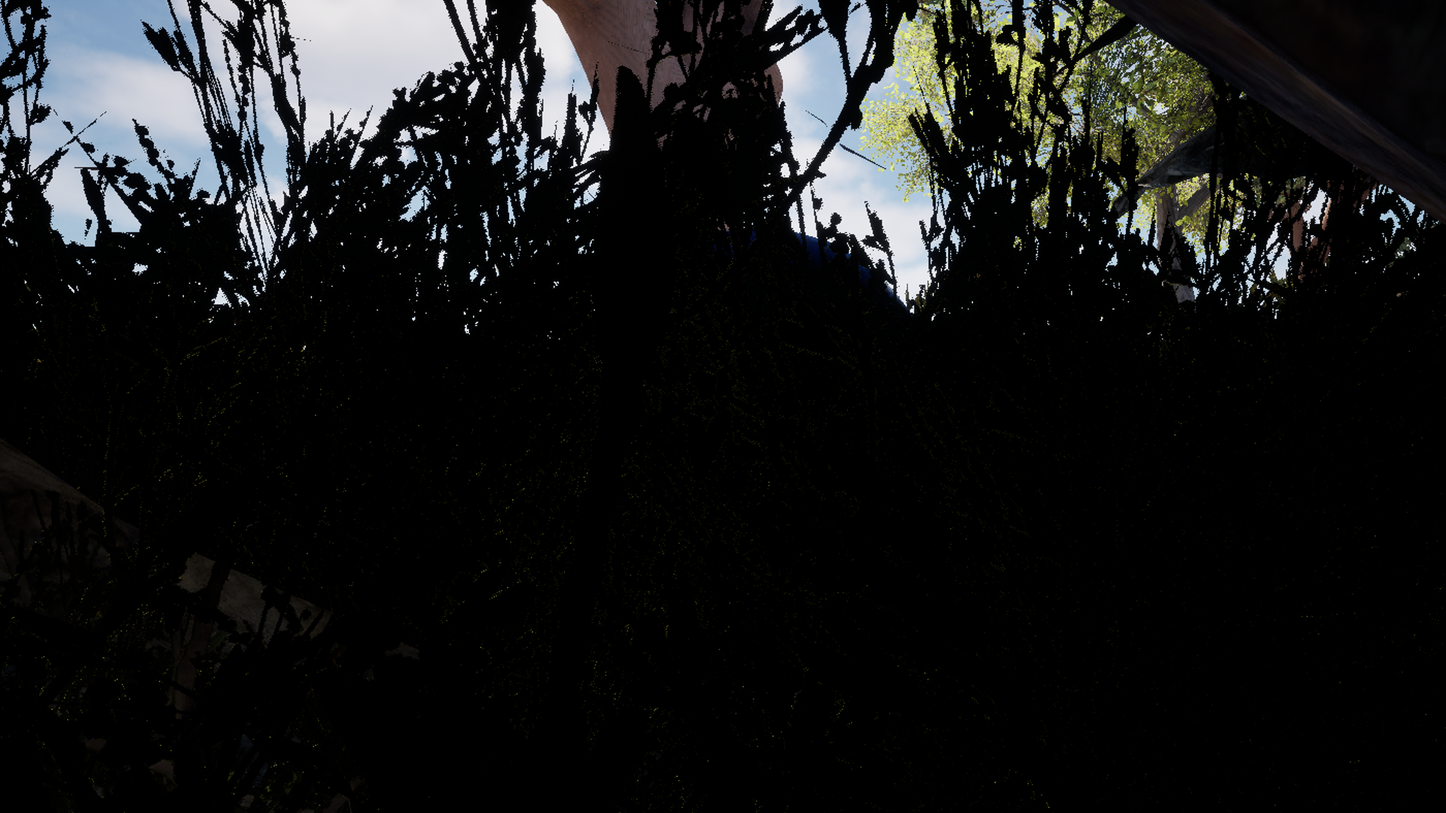Piplup: (199, 0, 1247, 813)
